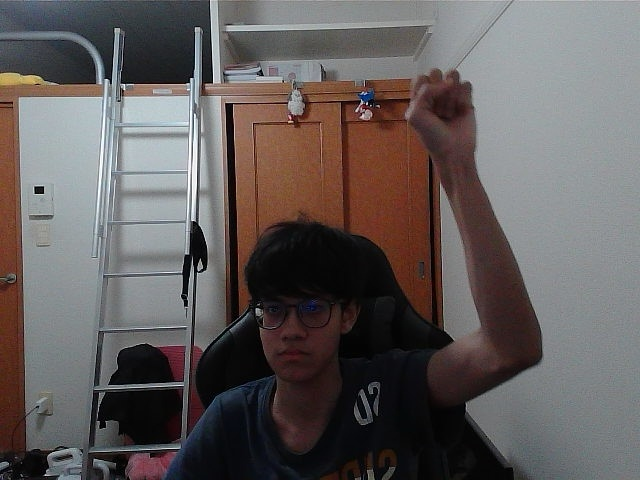closed_palm: (419, 74, 466, 150)
